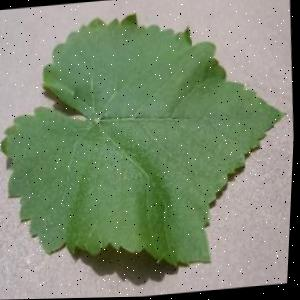Folha: (0, 1, 300, 285)
